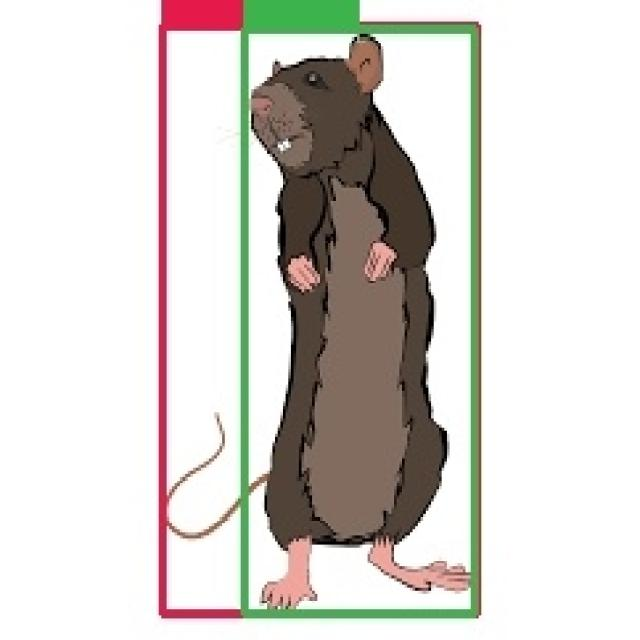rat: (161, 28, 476, 612), (246, 28, 476, 612)
